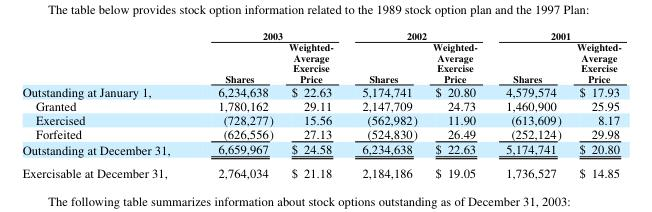table: (21, 28, 620, 180)
table column: (21, 28, 193, 180), (193, 28, 280, 180), (347, 28, 424, 180), (491, 28, 568, 180), (280, 28, 347, 180), (424, 28, 491, 180), (568, 28, 620, 180)
table column header: (21, 28, 620, 83)
table row: (21, 41, 620, 83), (21, 140, 620, 160), (21, 160, 620, 180), (21, 125, 620, 140), (21, 83, 620, 97), (21, 97, 620, 111), (21, 111, 620, 125), (21, 28, 620, 41)
table spanning cell: (193, 28, 347, 41), (347, 28, 491, 41), (491, 28, 620, 41)
